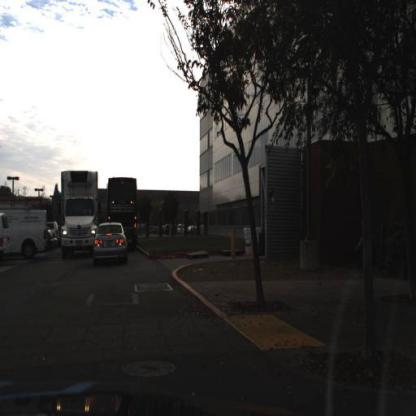car: (1, 205, 50, 261), (92, 218, 129, 260), (1, 211, 15, 257)
truck: (59, 169, 100, 258), (106, 174, 141, 249)
